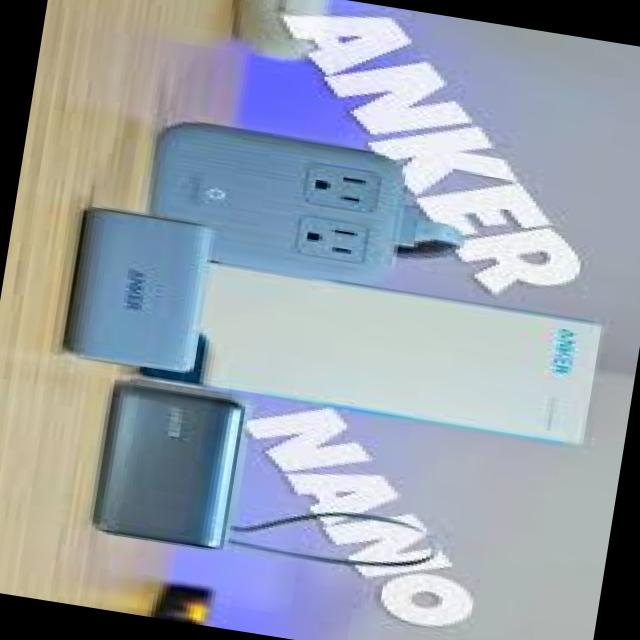power_bank: (51, 205, 222, 382), (93, 382, 246, 556)
